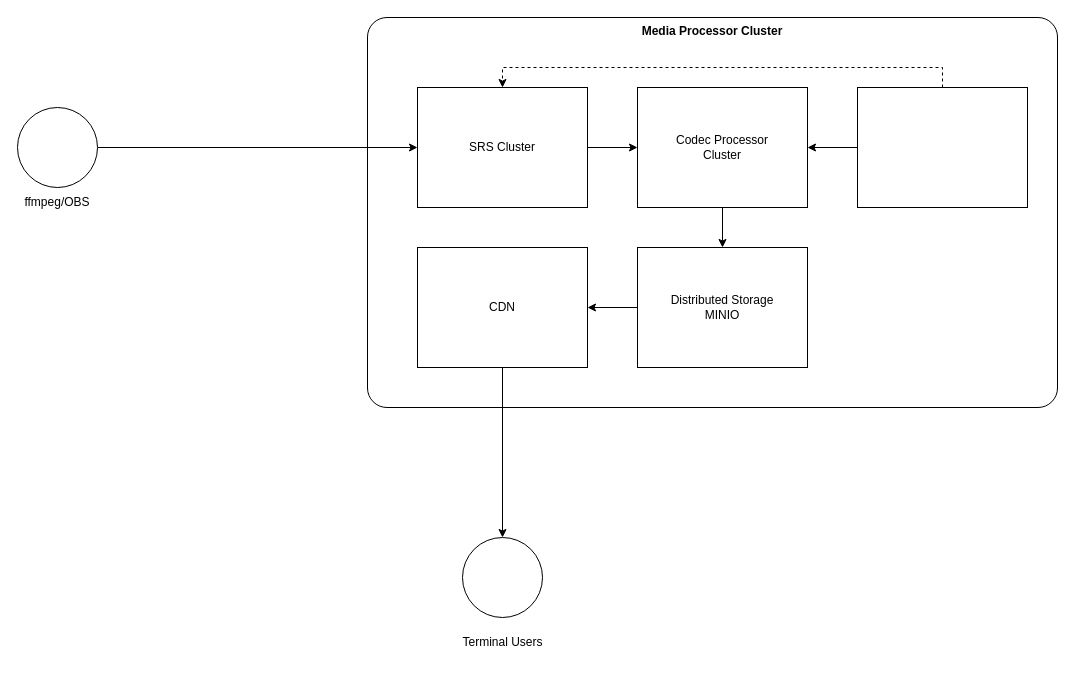
The diagram is 1075 pixels wide and 675 high, and some of its shapes have lost their labels. Each missing label, with the centre of its shape:
"Player" goes at (502,577).
"Push Strean Client" goes at (57,147).
"Stream Auditing Cluster" goes at (942,147).
